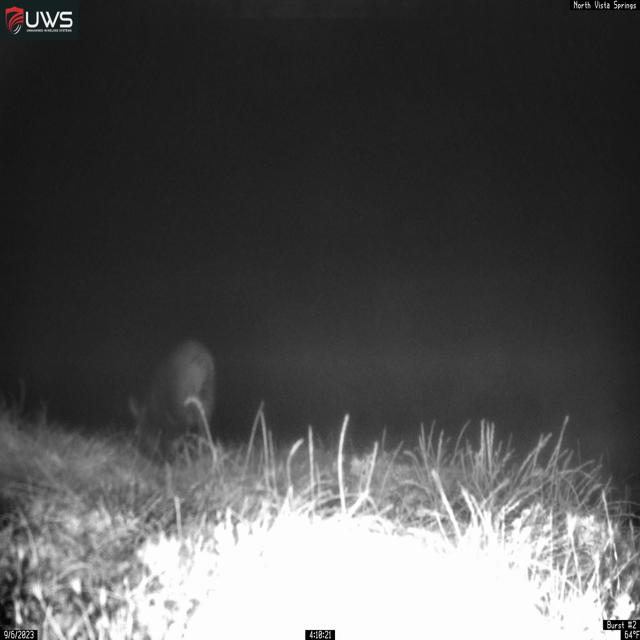pig: (127, 337, 218, 460)
